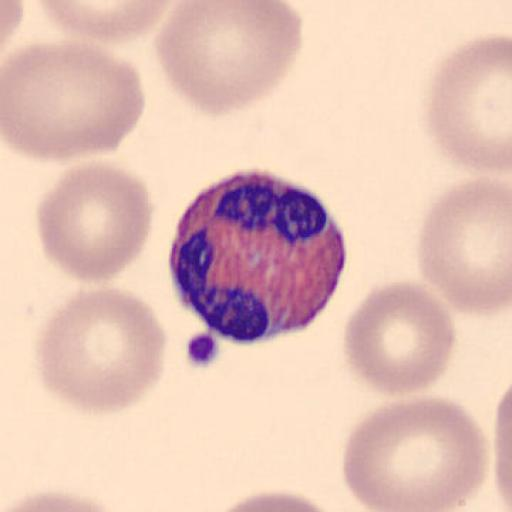RBC: (0, 39, 148, 163), (154, 0, 304, 117), (343, 394, 489, 512), (36, 284, 166, 416), (34, 158, 155, 288), (415, 175, 512, 317), (342, 278, 456, 396), (424, 36, 512, 174), (33, 0, 177, 45), (204, 489, 346, 512), (490, 386, 512, 511), (0, 490, 122, 511), (0, 0, 25, 56)
WBC: (166, 166, 348, 346)
